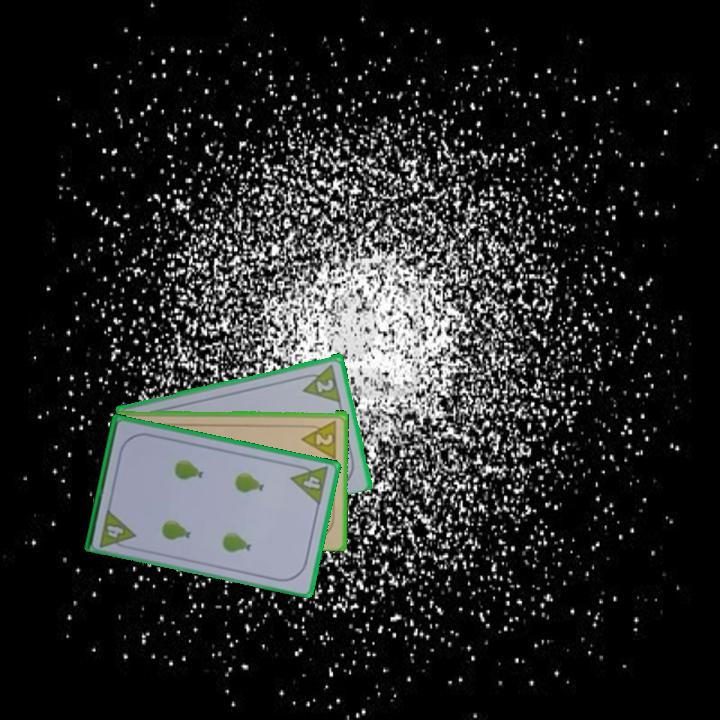2p: (299, 416, 340, 460), (313, 375, 337, 395)
4p: (288, 460, 331, 507), (96, 505, 138, 552)
